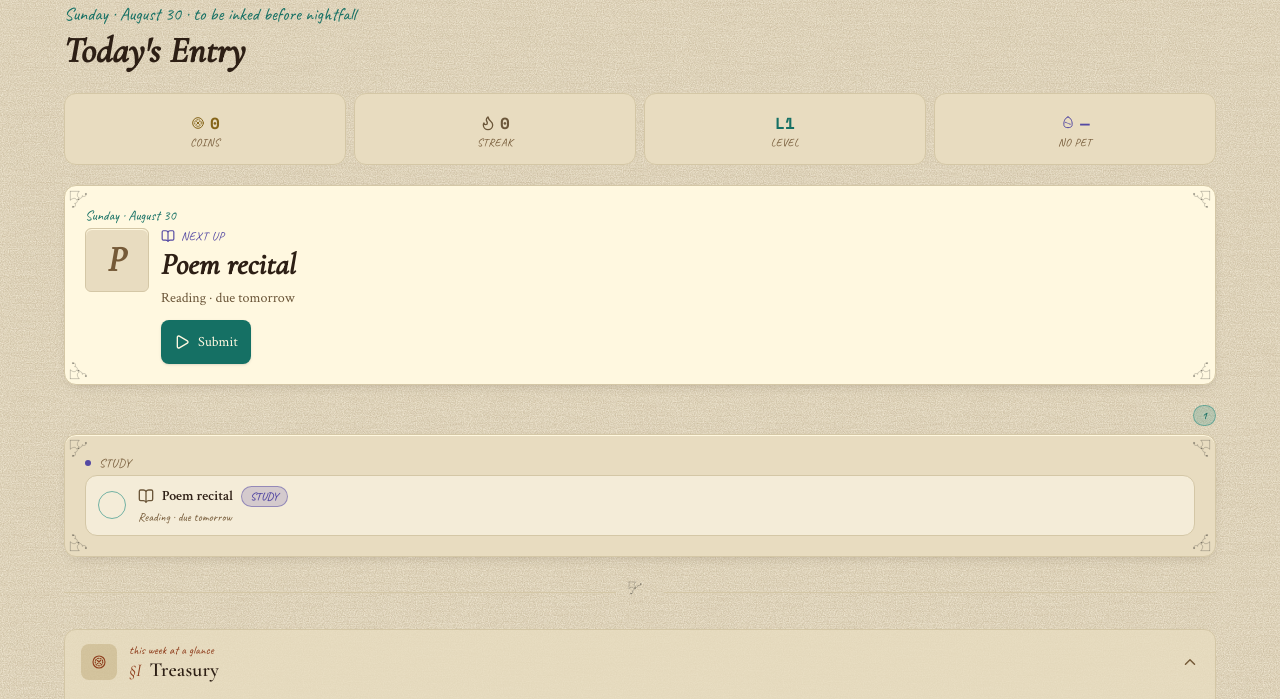
ChildDashboard › clicking an open homework row opens the submit sheet
The width and height of the screenshot is (1280, 699).
Click the button with aria-label "complete poem recital" at (198, 496), box 86,476 -> 1194,534
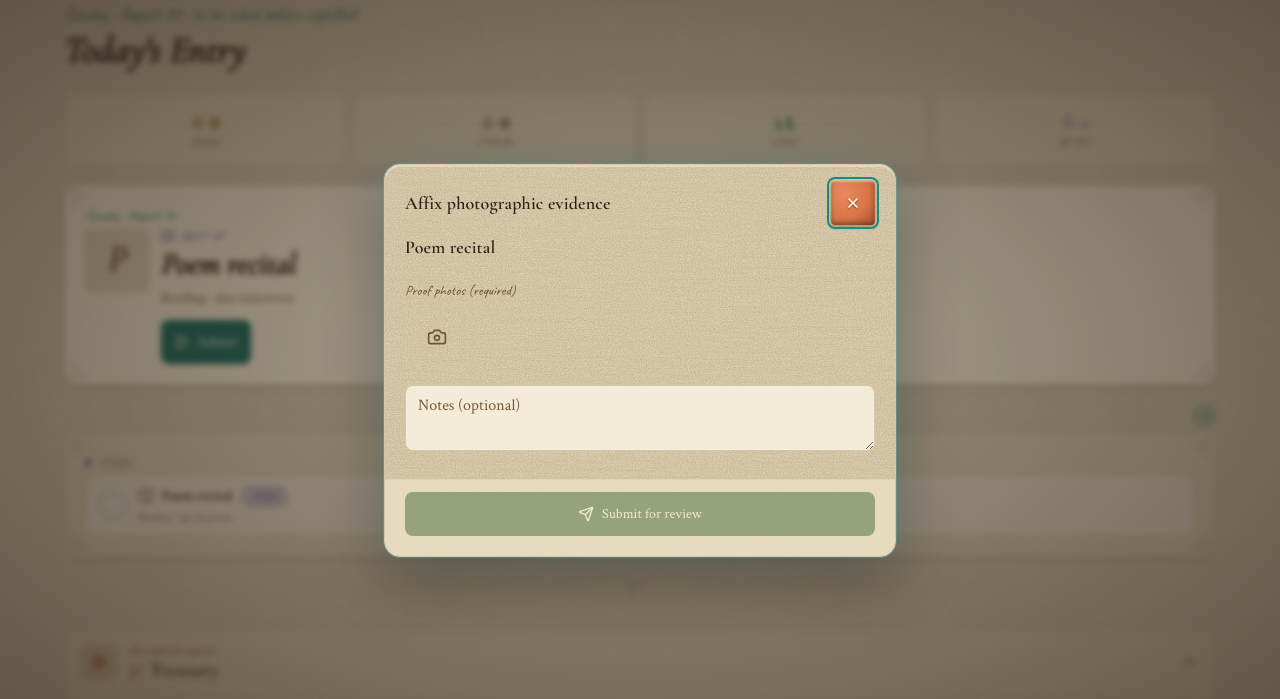
Check: the text "Poem recital" is shown, box 161,246 -> 296,283
Check: the text "Affix photographic evidence" is shown, box 405,188 -> 610,216
